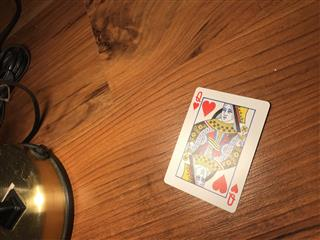QueenOfHearts: (163, 86, 270, 213)
